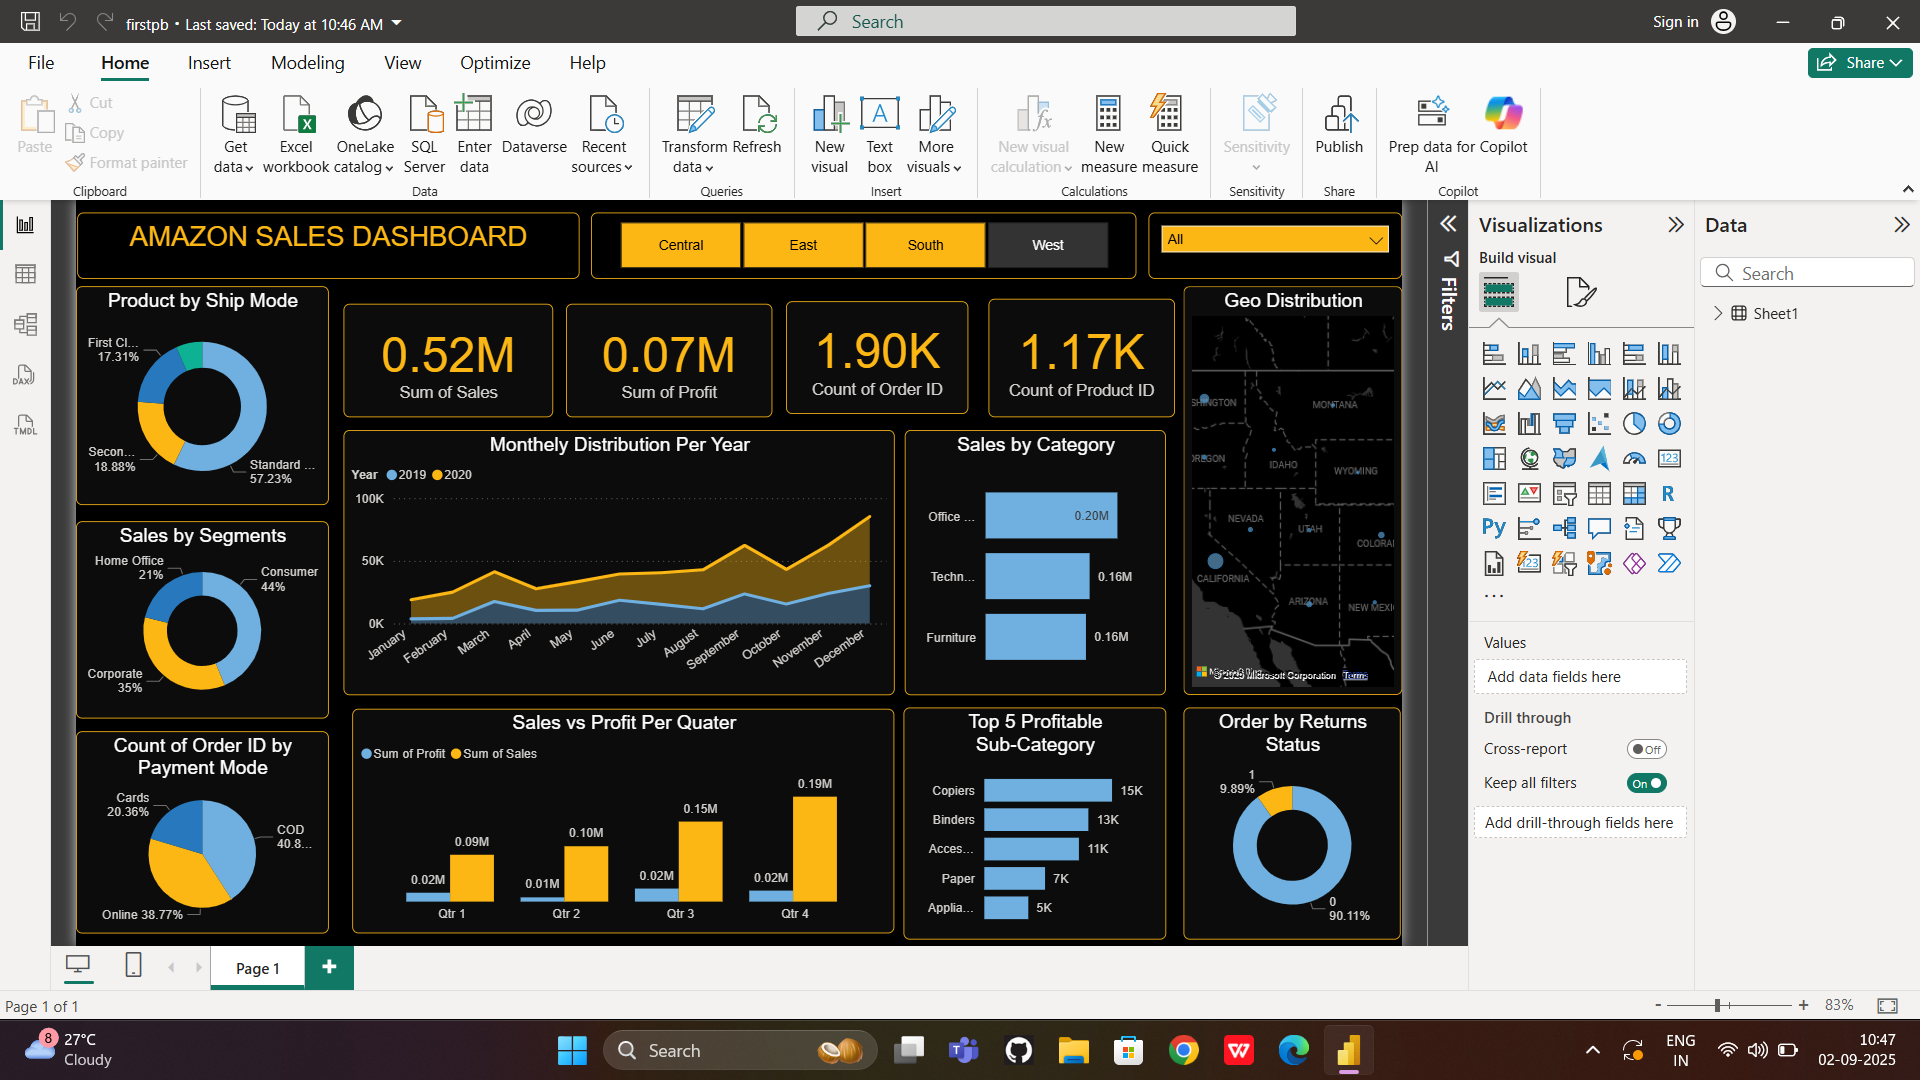

What the dashboard file says about the page in this screenshot:
{"tool":"powerbi","page":{"name":"Page 1","canvas":[1280,720],"ordinal":0},"visuals":[{"type":"clusteredBarChart","title":" Sales by Category","fields":{"Category":["Amazon Store Sales Data xlsx - Sheet1 (1).Category"],"Y":["Sum(Amazon Store Sales Data xlsx - Sheet1 (1).Sales)"]},"box":[799.9,222,252.1,255.8],"z":0},{"type":"clusteredBarChart","title":"Top 5 Profitable Sub-Category","fields":{"Category":["Amazon Store Sales Data xlsx - Sheet1 (1).Sub-Category"],"Y":["Sum(Amazon Store Sales Data xlsx - Sheet1 (1).Profit)"]},"box":[798.7,489.8,253.4,224.4],"z":1000},{"type":"donutChart","title":"Sales by Segments","fields":{"Category":["Amazon Store Sales Data xlsx - Sheet1 (1).Segment"],"Y":["Sum(Amazon Store Sales Data xlsx - Sheet1 (1).Sales)"]},"box":[0,310.1,243.7,190.6],"z":2000},{"type":"donutChart","title":"Product by Ship Mode","fields":{"Category":["Amazon Store Sales Data xlsx - Sheet1 (1).Ship Mode"],"Y":["CountNonNull(Amazon Store Sales Data xlsx - Sheet1 (1).Product ID)"]},"box":[0,83.2,243.7,211.1],"z":3000},{"type":"pieChart","fields":{"Category":["Amazon Store Sales Data xlsx - Sheet1 (1).Payment Mode"],"Y":["CountNonNull(Amazon Store Sales Data xlsx - Sheet1 (1).Order ID)"]},"box":[0,512.7,243.7,195.4],"z":4000},{"type":"donutChart","title":"Order by Returns Status","fields":{"Y":["CountNonNull(Amazon Store Sales Data xlsx - Sheet1 (1).Order ID)"],"Category":["Sheet1.Returns"]},"box":[1068.9,489.8,209.9,224.4],"z":5000},{"type":"stackedAreaChart","title":"Monthely Distribution Per Year","fields":{"Category":["Sheet1.Order Date.Variation.Date Hierarchy.Month"],"Y":["Sum(Sheet1.Sales)"],"Series":["Sheet1.Order Date.Variation.Date Hierarchy.Year"]},"box":[258.2,222,532,255.8],"z":6000},{"type":"clusteredColumnChart","title":"Sales vs Profit Per Quater ","fields":{"Category":["Sheet1.Order Date.Variation.Date Hierarchy.Quarter"],"Y":["Sum(Sheet1.Profit)","Sum(Sheet1.Sales)"]},"box":[266.6,491,523.6,217.2],"z":7000},{"type":"map","title":"Geo Distribution","fields":{"Category":["Sheet1.State"],"Size":["Sum(Sheet1.Sales)"]},"box":[1068.9,83.2,211.1,394.5],"z":8000},{"type":"slicer","fields":{"Values":["Sheet1.Region"]},"box":[497.1,12.1,526,63.9],"z":8001},{"type":"slicer","fields":{"Values":["Sheet1.State"]},"box":[1035.1,12.1,244.9,63.9],"z":8002},{"type":"textbox","box":[1.2,12.1,485,63.9],"z":8003},{"type":"card","fields":{"Values":["Sum(Sheet1.Sales)"]},"box":[258.2,100.1,202.7,109.8],"z":8004},{"type":"card","fields":{"Values":["Sum(Sheet1.Profit)"]},"box":[472.9,100.1,199.1,109.8],"z":8005},{"type":"card","fields":{"Values":["CountNonNull(Sheet1.Order ID)"]},"box":[685.3,97.7,176.1,108.6],"z":8006},{"type":"card","fields":{"Values":["Count(Sheet1.Product ID)"]},"box":[880.7,95.3,179.8,114.6],"z":8007}]}

Visuals, with their boxes on the page's 1280x720 design canvas (x1, y1, x2, y2). These are canvas units, not pixel positions in the 1920x1080 screenshot, which may show the page scaled, cropped or inside an application window:
" Sales by Category" clusteredBarChart: <region>800, 222, 1052, 478</region>
"Top 5 Profitable Sub-Category" clusteredBarChart: <region>799, 490, 1052, 714</region>
"Sales by Segments" donutChart: <region>0, 310, 244, 501</region>
"Product by Ship Mode" donutChart: <region>0, 83, 244, 294</region>
pieChart - Amazon Store Sales Data xlsx - Sheet1 (1).Payment Mode x CountNonNull(Amazon Store Sales Data xlsx - Sheet1 (1).Order ID): <region>0, 513, 244, 708</region>
"Order by Returns Status" donutChart: <region>1069, 490, 1279, 714</region>
"Monthely Distribution Per Year" stackedAreaChart: <region>258, 222, 790, 478</region>
"Sales vs Profit Per Quater " clusteredColumnChart: <region>267, 491, 790, 708</region>
"Geo Distribution" map: <region>1069, 83, 1280, 478</region>
slicer - Sheet1.Region: <region>497, 12, 1023, 76</region>
slicer - Sheet1.State: <region>1035, 12, 1280, 76</region>
textbox: <region>1, 12, 486, 76</region>
card - Sum(Sheet1.Sales): <region>258, 100, 461, 210</region>
card - Sum(Sheet1.Profit): <region>473, 100, 672, 210</region>
card - CountNonNull(Sheet1.Order ID): <region>685, 98, 861, 206</region>
card - Count(Sheet1.Product ID): <region>881, 95, 1060, 210</region>
